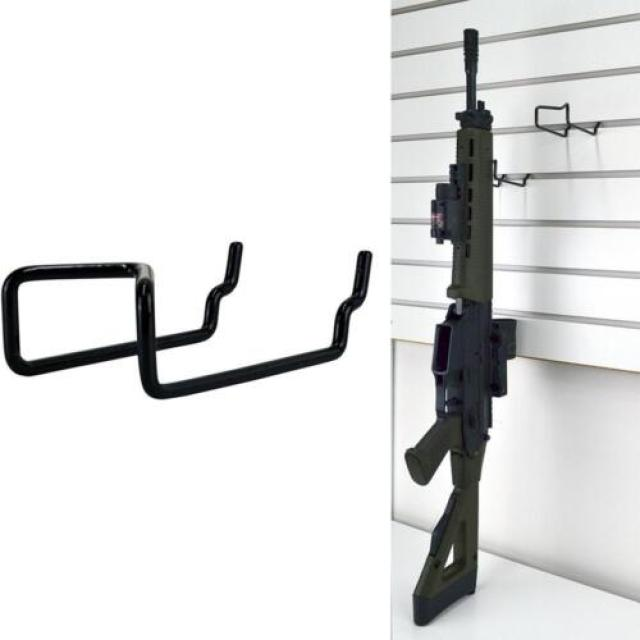Rifle: (407, 31, 504, 627)
